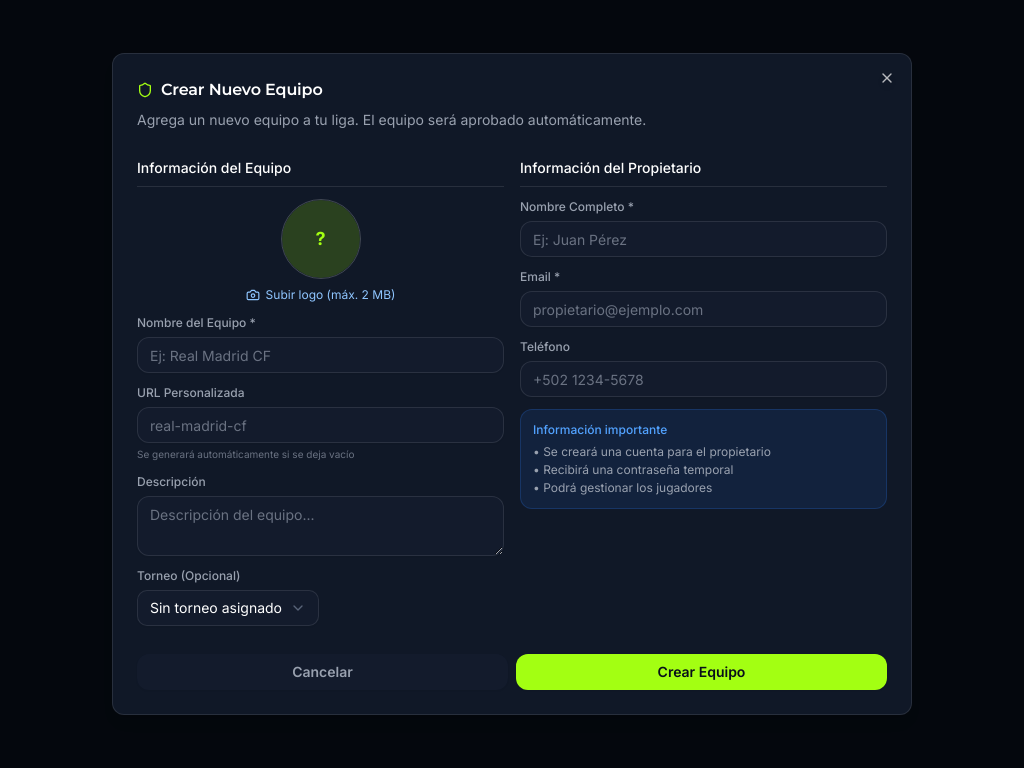
Test: create team with a tournament › creates the team assigned to the chosen tournament
Type "Tigres" into the field labelled "Nombre del Equipo *" at (320, 355), box [137,337,504,373]
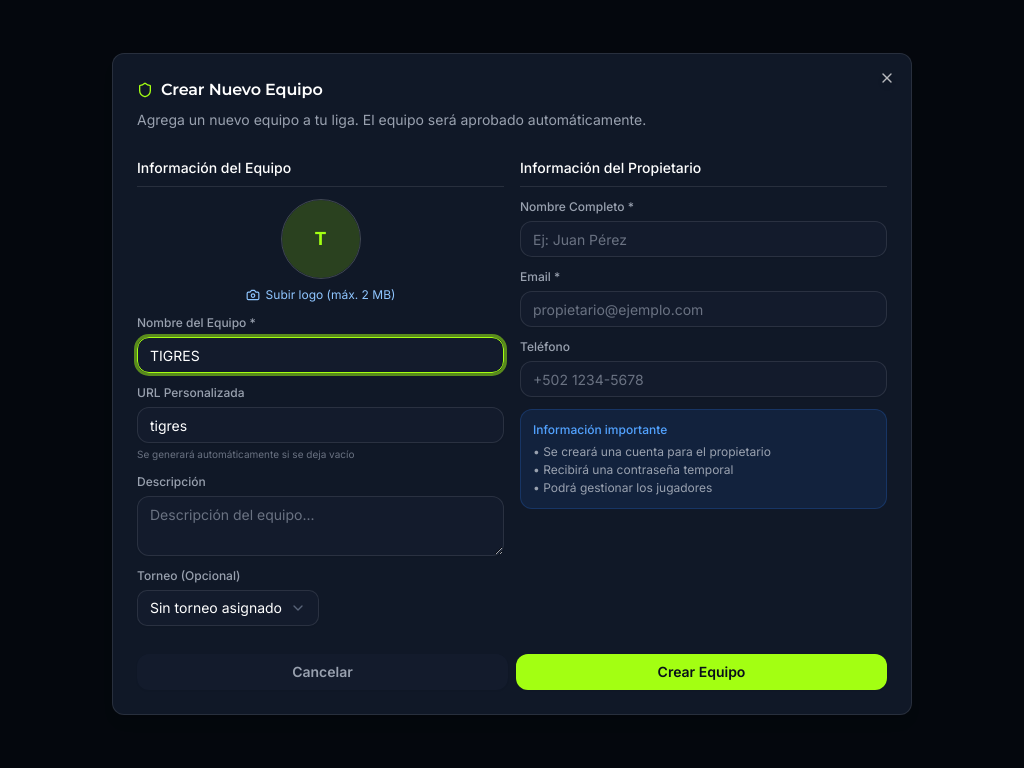
Click the dropdown labelled "Sin torneo asignado" at (228, 608), box [137,590,319,626]
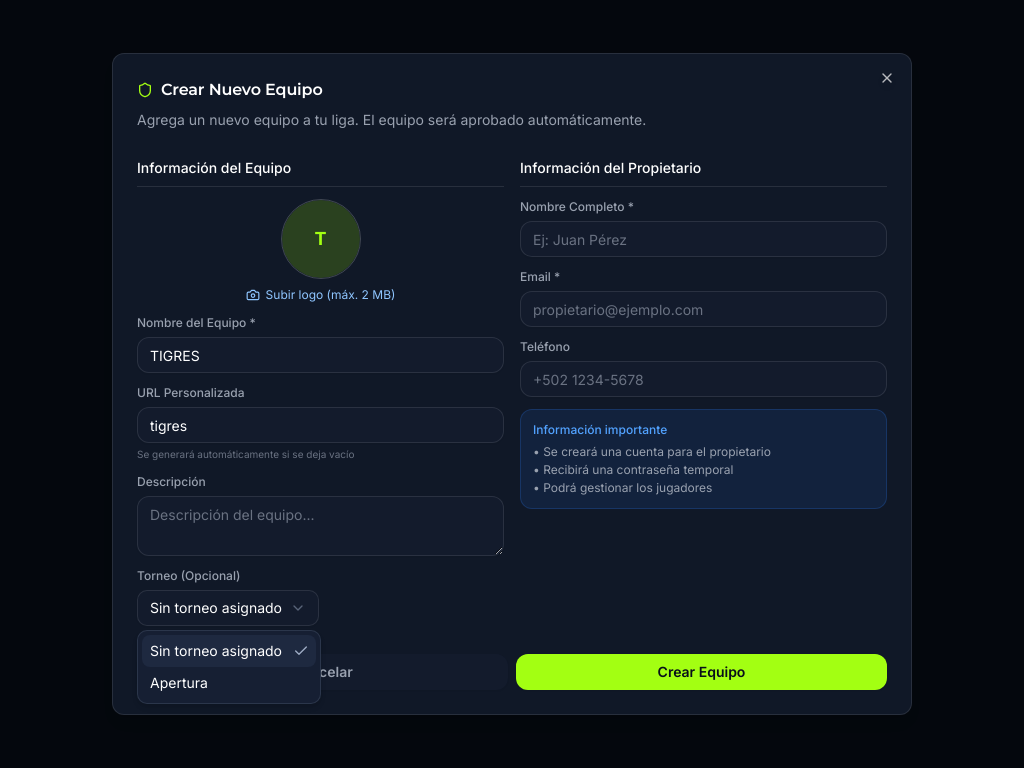
Click the option "Apertura" at (179, 682), box [150,674,208,691]
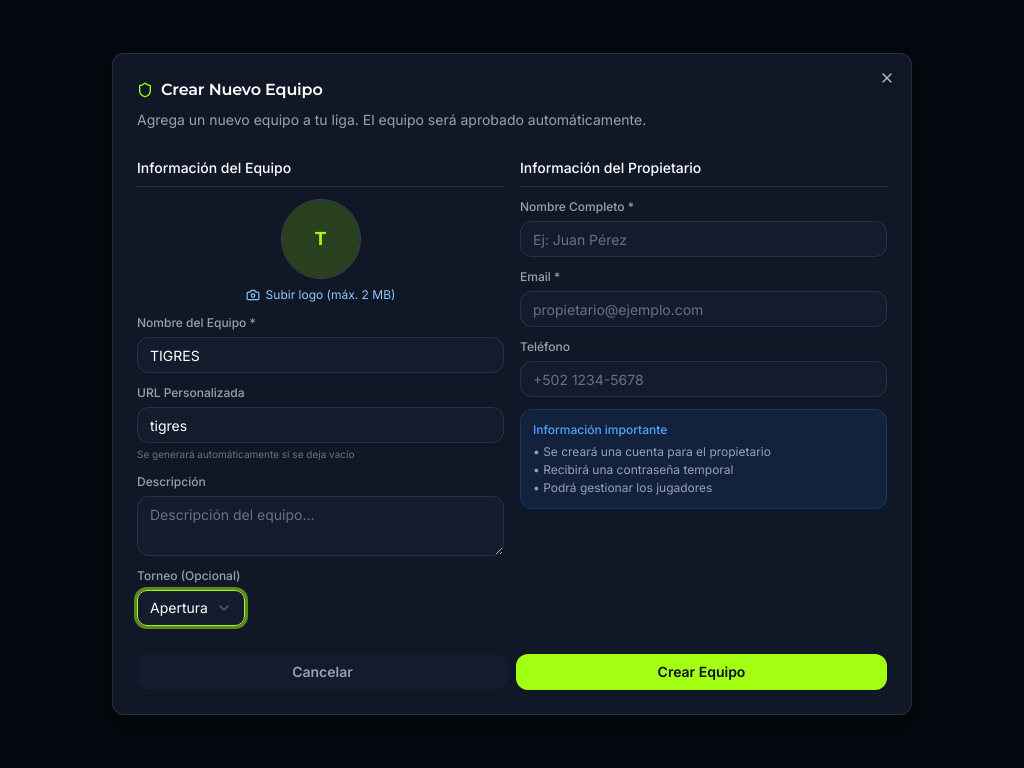
Type "Ana" into the field labelled "Nombre Completo *" at (704, 239), box [520,221,887,257]
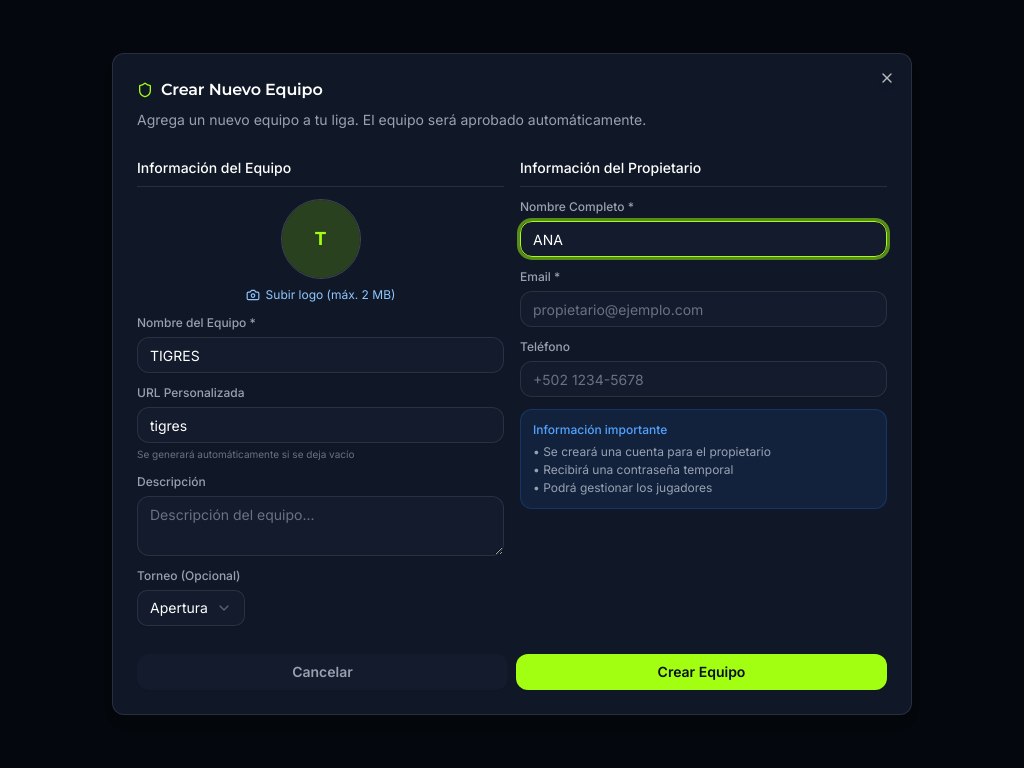
Type "ana@example.com" into the field labelled "Email *" at (704, 309), box [520,291,887,327]
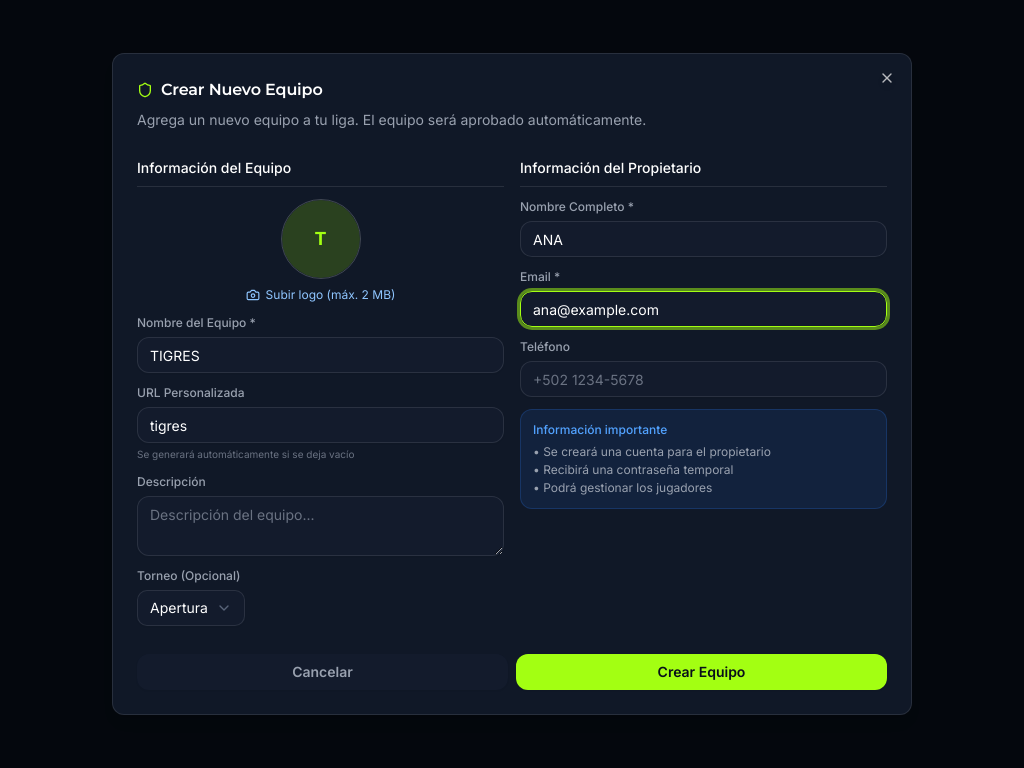
Click the button "Crear Equipo" at (702, 672), box [516,654,887,690]
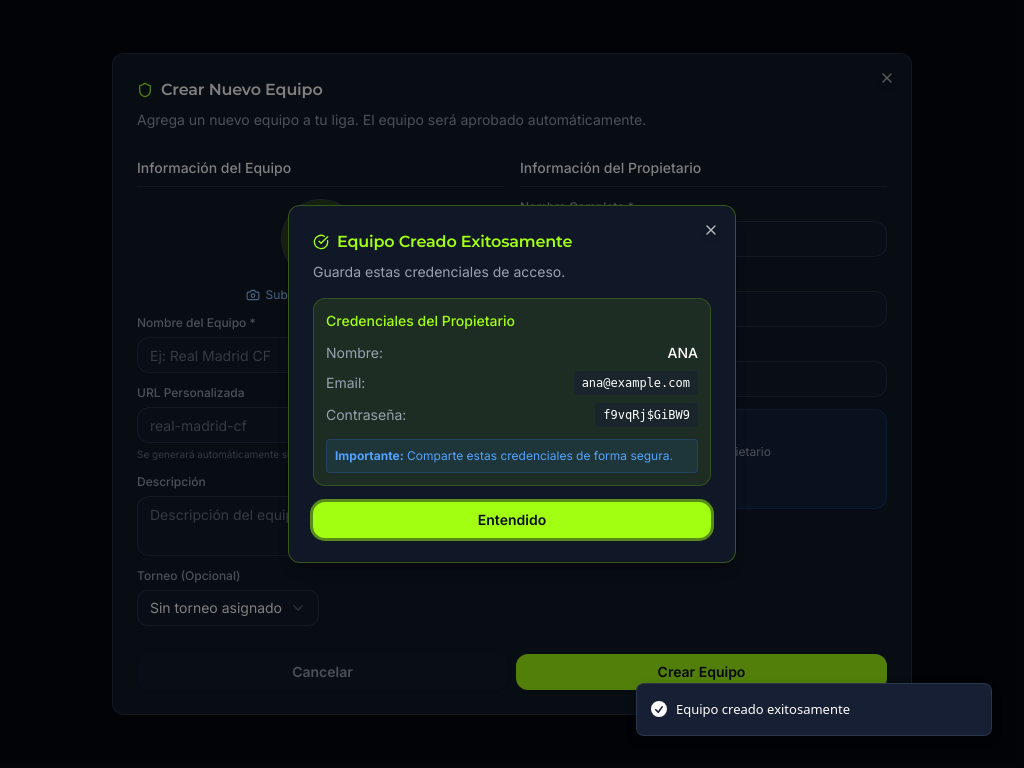
Check: the text "Equipo creado exitosamente" is shown, box [676,700,850,719]
